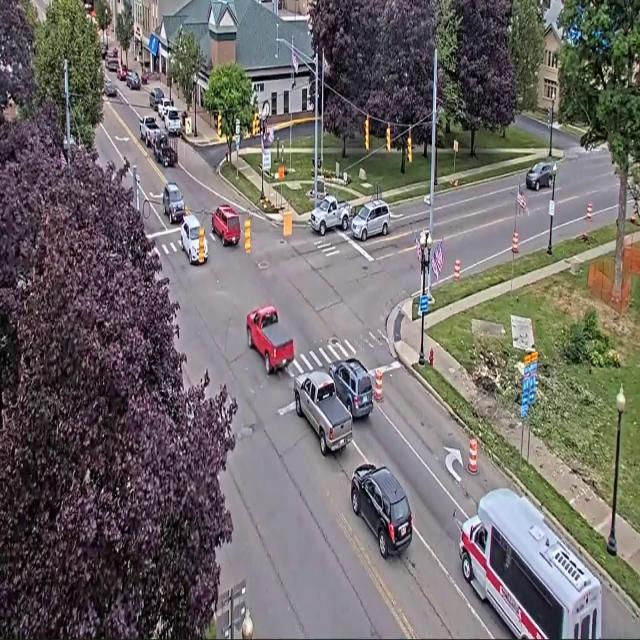car: (351, 464, 413, 558), (329, 359, 373, 417), (351, 200, 390, 241), (180, 216, 208, 264), (212, 204, 240, 245), (163, 183, 185, 223), (526, 160, 553, 191), (156, 97, 173, 119), (149, 88, 164, 111), (126, 71, 140, 89), (104, 79, 117, 96), (117, 64, 128, 81), (106, 57, 119, 71), (101, 42, 108, 59)
traffic signal: (244, 217, 250, 253), (364, 117, 370, 151), (199, 226, 204, 263), (252, 112, 259, 136), (407, 132, 412, 162), (547, 107, 553, 125), (386, 125, 390, 152), (217, 112, 221, 138)
truck: (294, 370, 352, 455), (247, 305, 294, 374), (309, 195, 351, 236), (153, 133, 178, 167), (140, 116, 162, 147), (163, 107, 181, 135)
